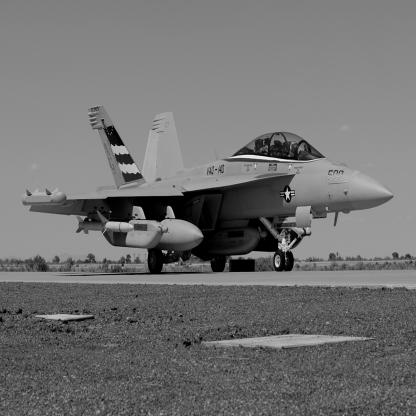F18: (23, 106, 395, 274)
